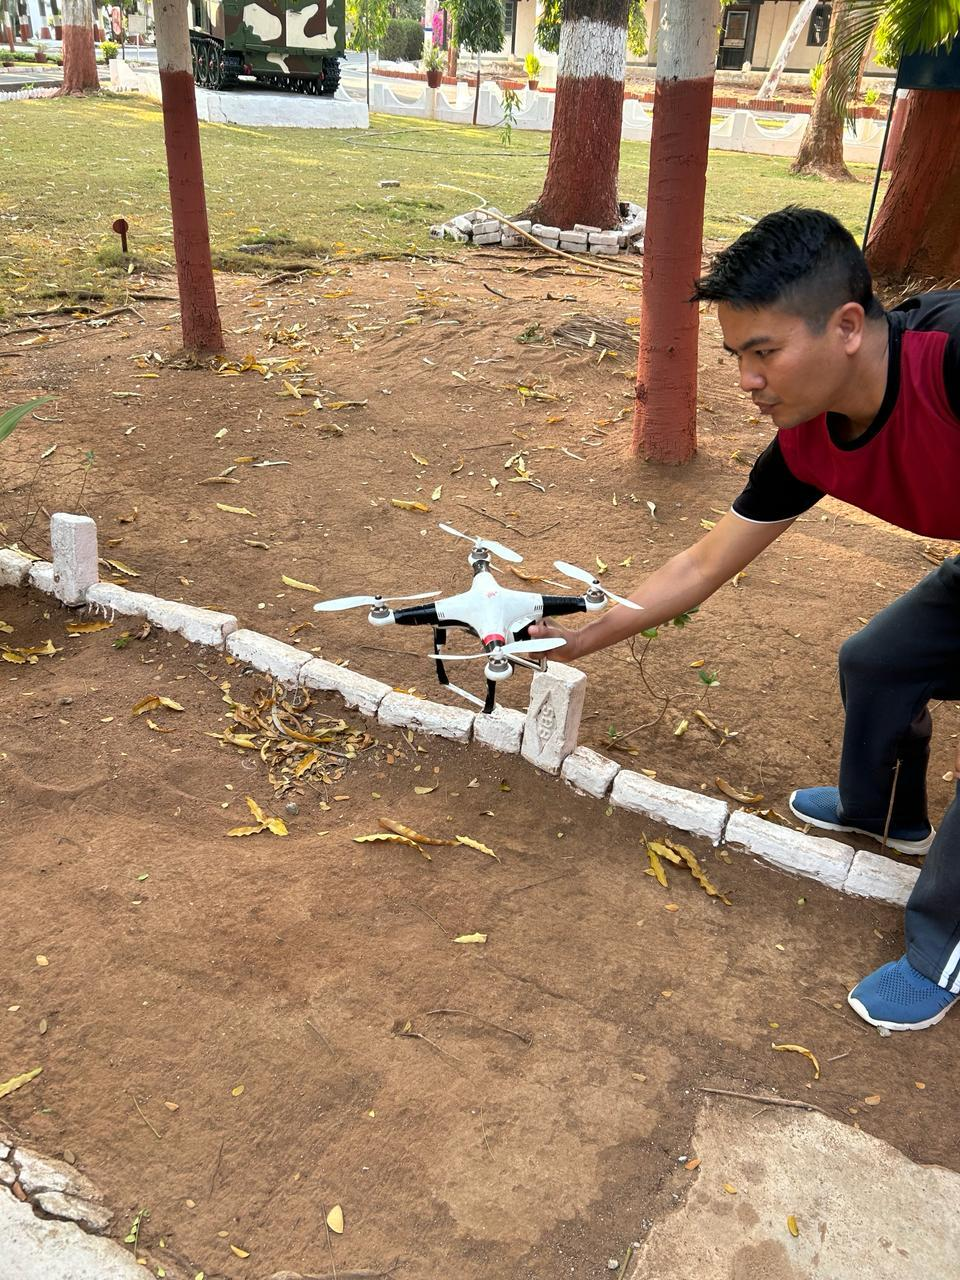drone: (297, 494, 649, 770)
